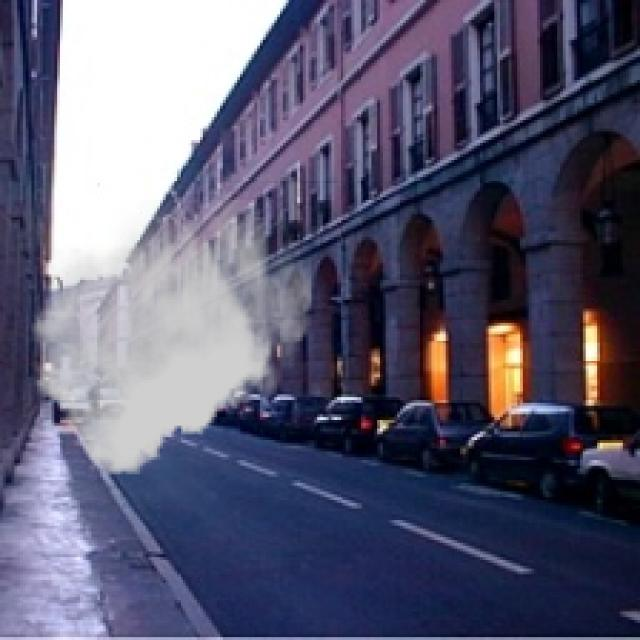smoke: (31, 200, 312, 474)
